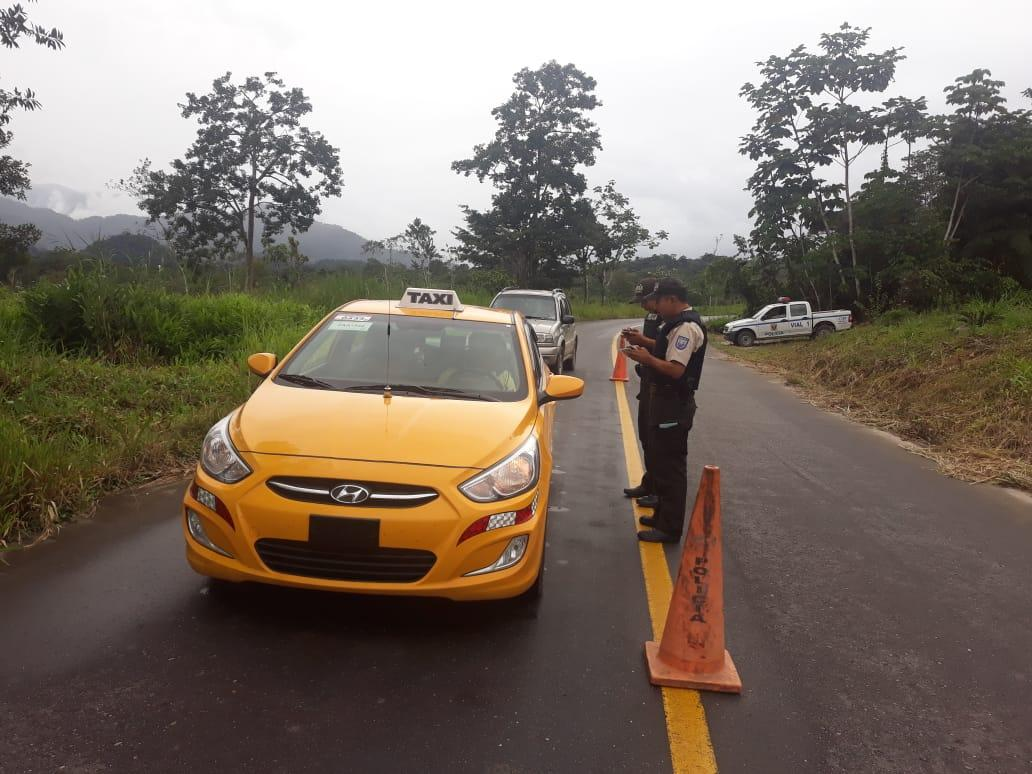taxi: (208, 277, 553, 597)
